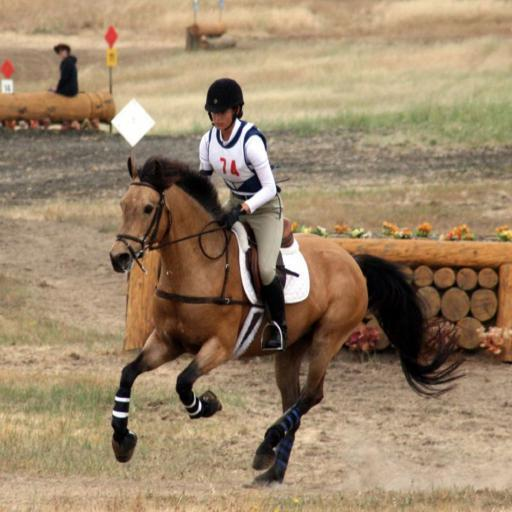horse: (110, 155, 468, 486)
